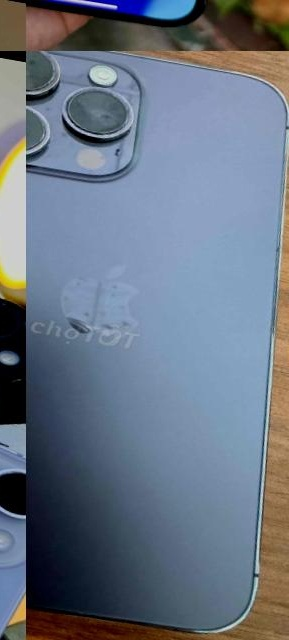scratch: (31, 242, 159, 366), (54, 80, 137, 151), (26, 51, 70, 100), (26, 86, 52, 165)
